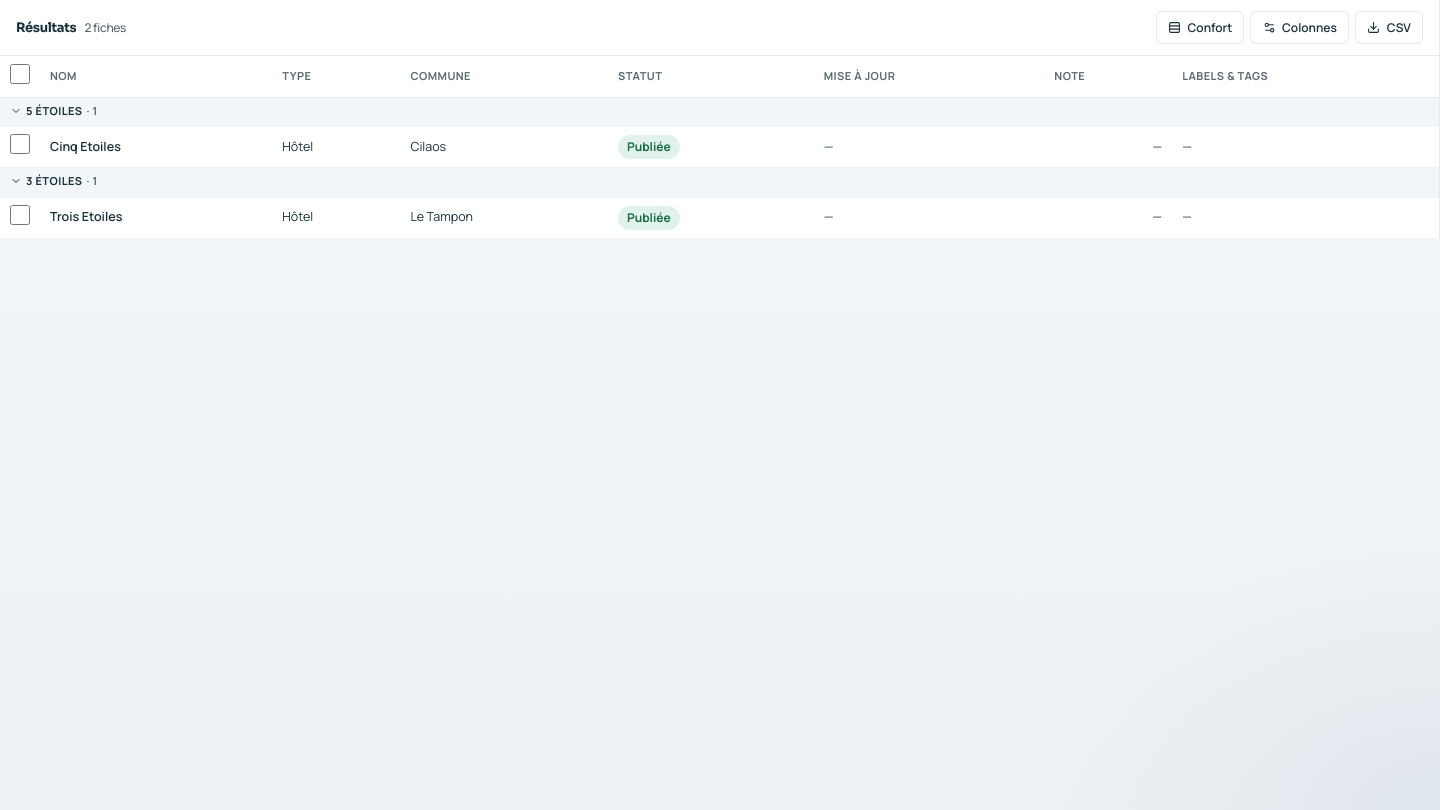
Scenario: ResultsTableView (D17 — table dense Explorer) › affiche les niveaux de classement (5 étoiles en premier) et replie une section au clic quand gradeSection est fourni
This screenshot has width=1440, height=810.
Expected: the number of rows with class "results-table__group-row" is 2, [0,97,1439,127]; [0,168,1439,197]
Expected: the button "3 étoiles · 1" is shown, [10,173,98,190]
Click the button "5 étoiles · 1": point(54, 111) [10,102,98,119]
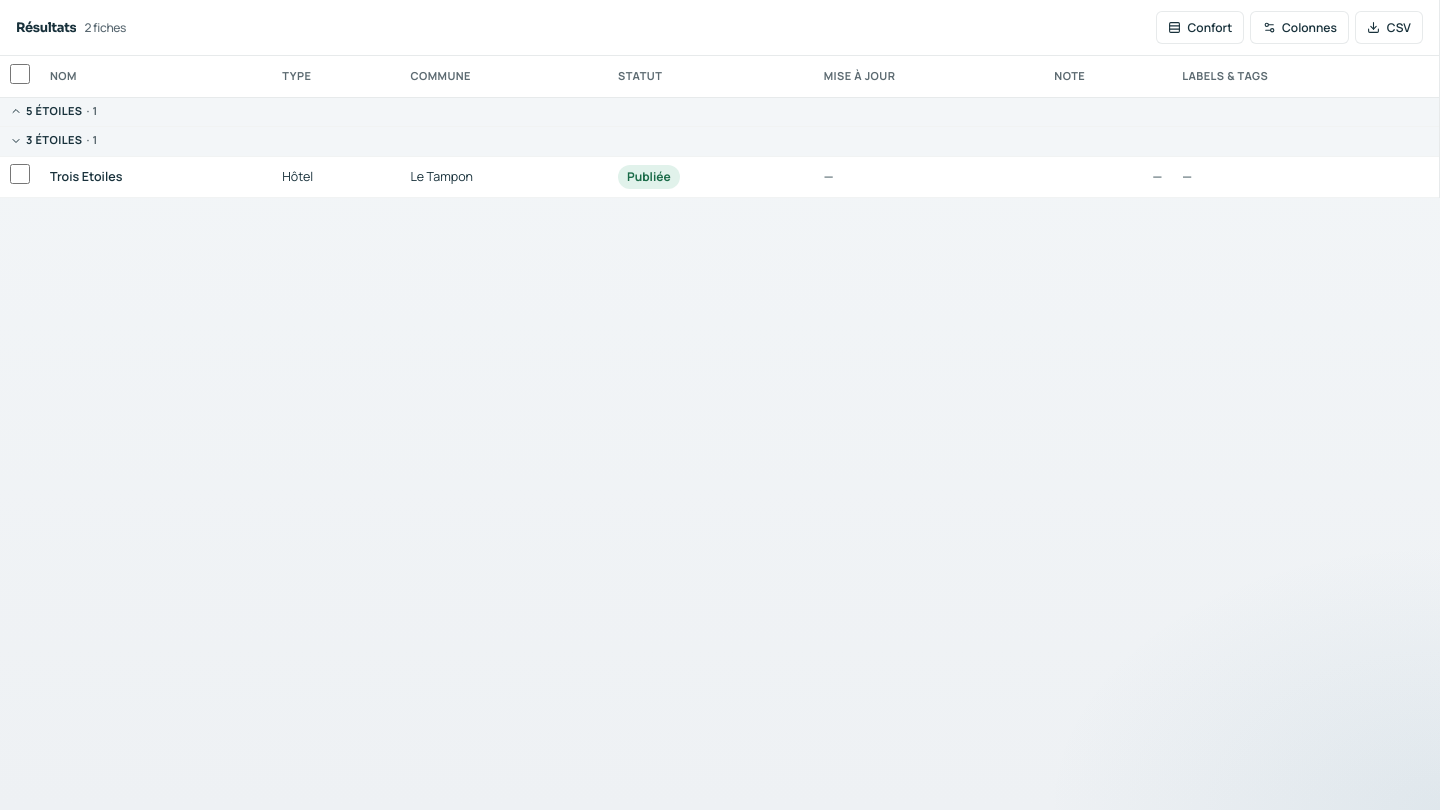
Expected: the button "Trois Etoiles" is shown, [50,168,122,186]
Now the button "Cinq Etoiles" is gone
